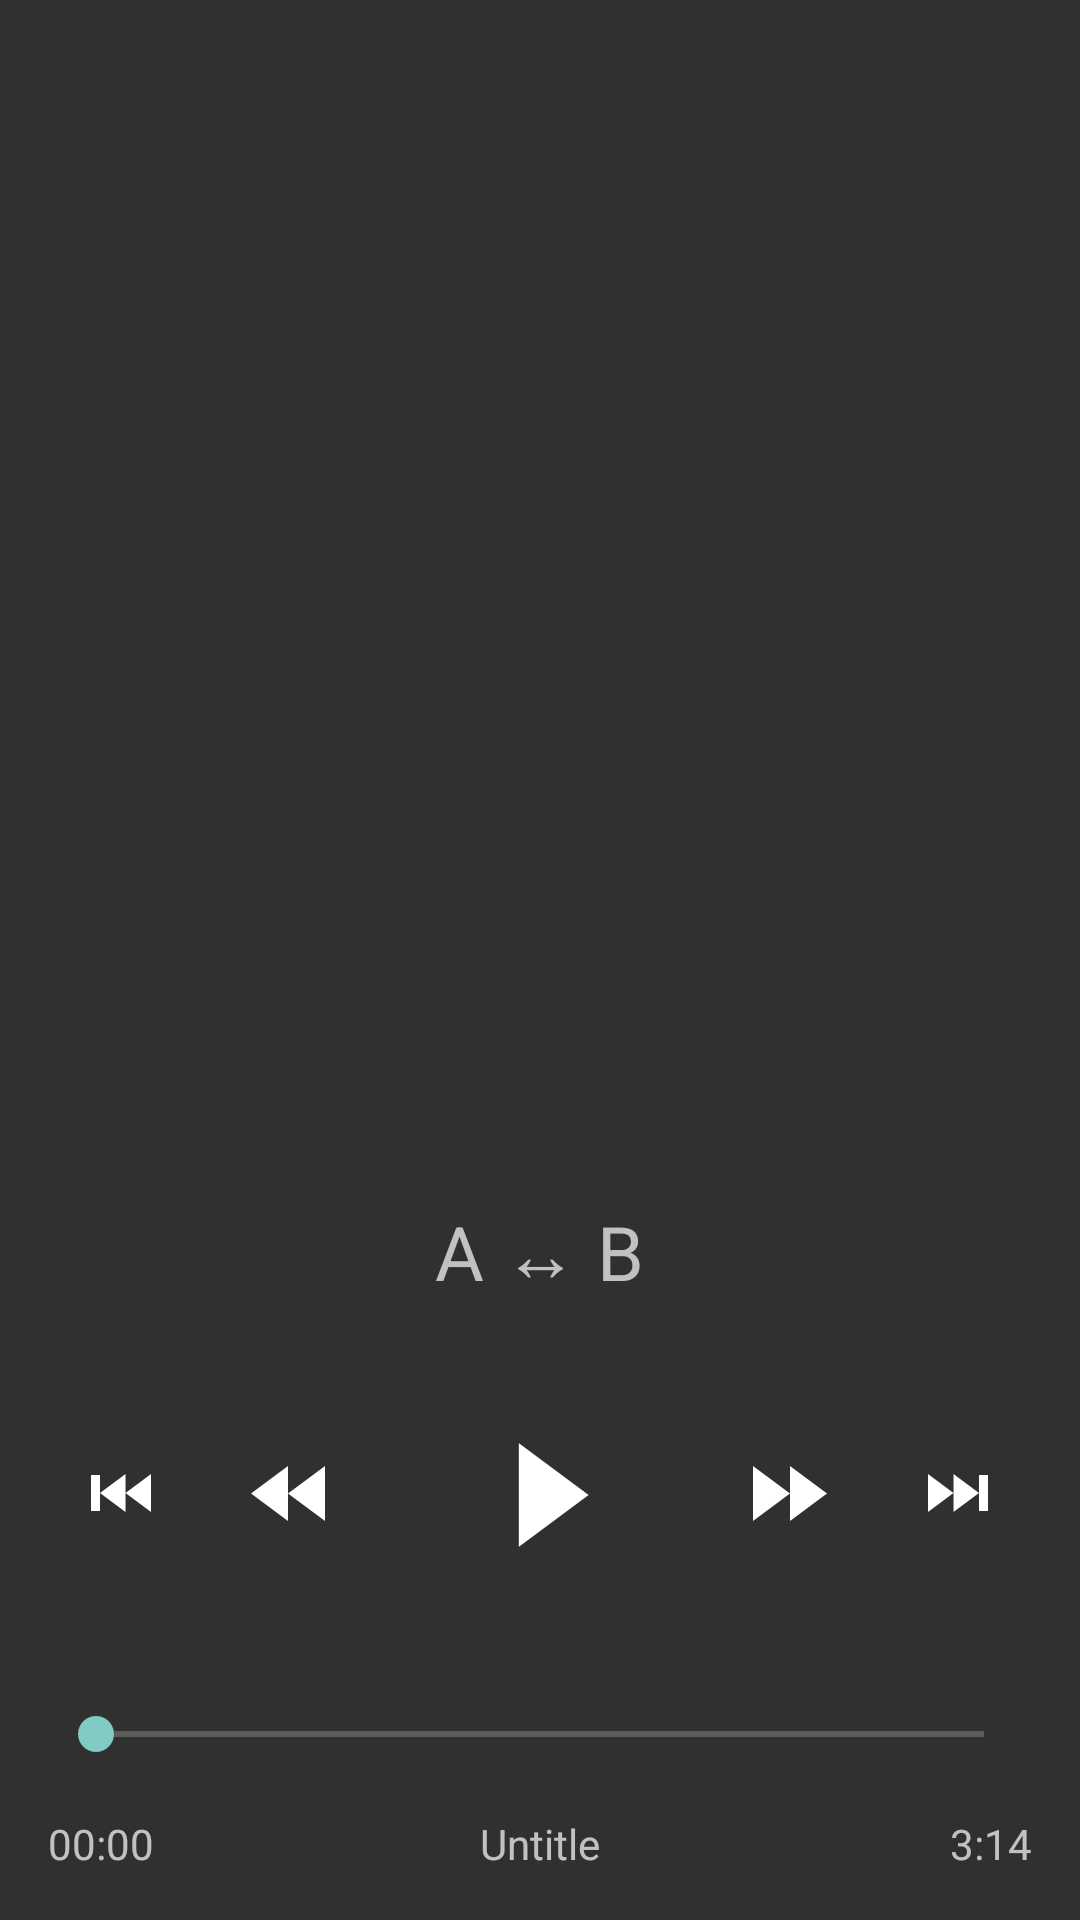

Screen size 1080px x 1920px. Icon name, then its box in pixels as {"left": x1, "top": y1, "right": x2, "bottom": y2}:
next in by: {"left": 928, "top": 1474, "right": 988, "bottom": 1512}
play: {"left": 518, "top": 1443, "right": 589, "bottom": 1547}
prev in by: {"left": 91, "top": 1474, "right": 151, "bottom": 1512}
